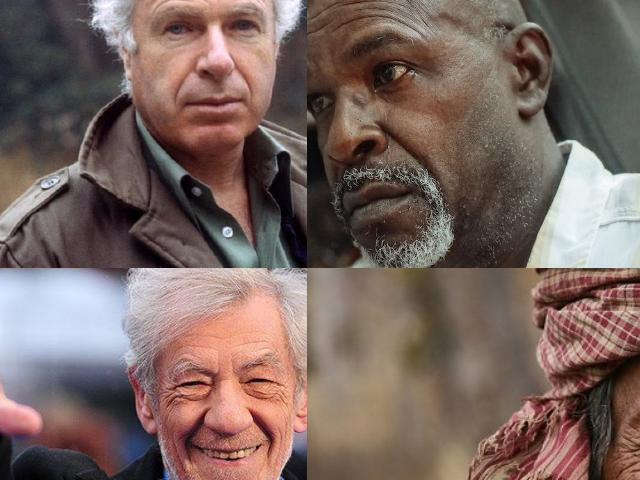crows_feet: (613, 431, 640, 466), (274, 380, 290, 408), (161, 382, 179, 406)
forehead: (348, 0, 401, 24), (307, 1, 341, 38), (234, 334, 270, 350), (182, 338, 216, 354), (192, 0, 229, 5)
gummy_smile: (388, 128, 427, 164), (174, 61, 192, 101), (232, 63, 255, 94), (184, 409, 206, 441), (253, 412, 274, 436)
masseter: (170, 442, 187, 470)
